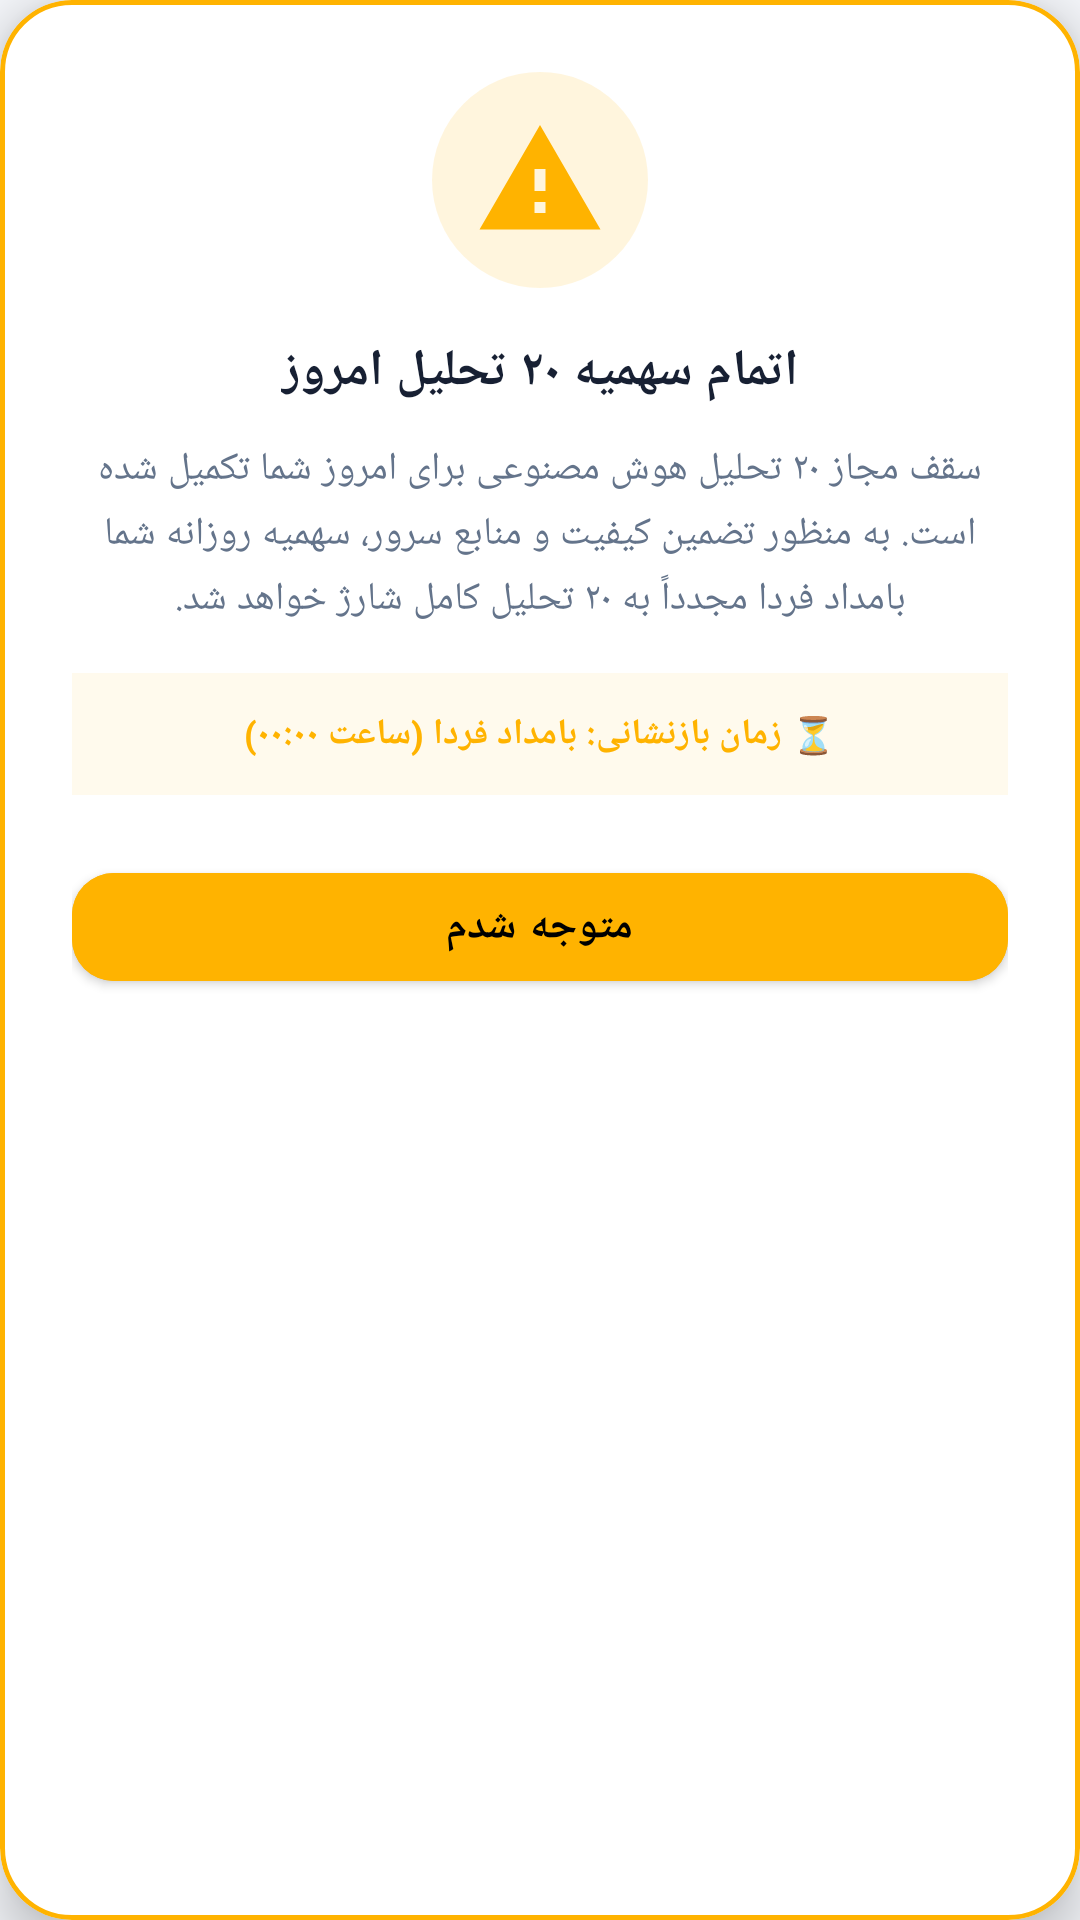

Icon bounding boxes for this 1080 × 1920 phone screenshot, format (x1, y1, x2, y2):
Limit Reached: (479, 125, 601, 230)
